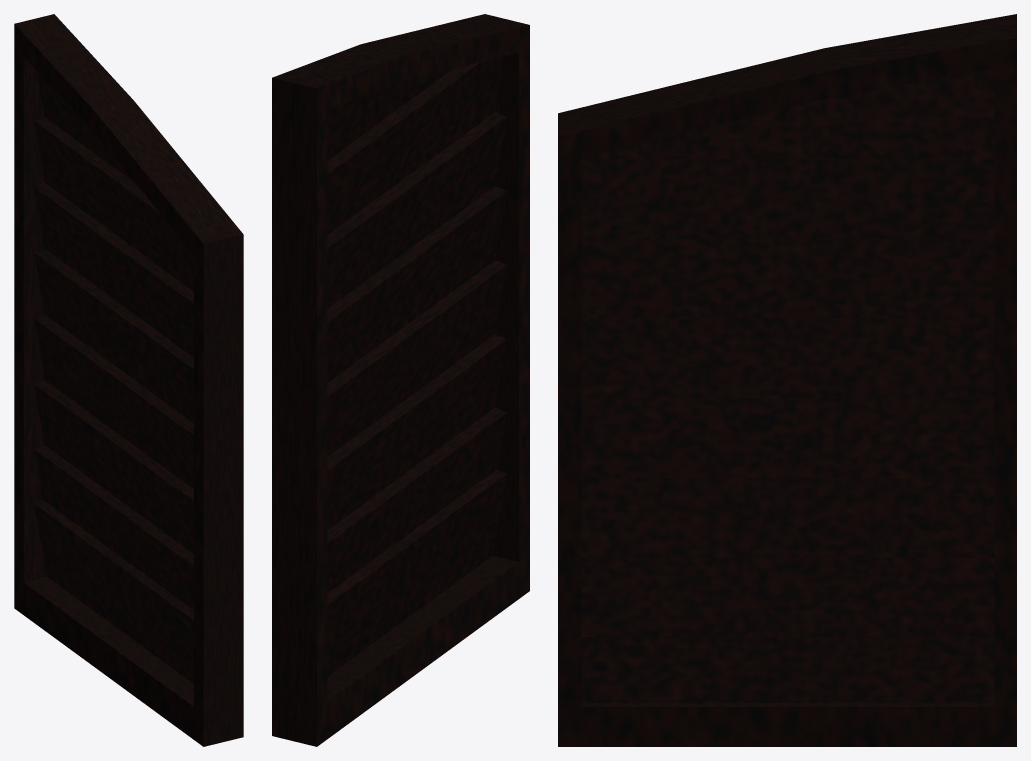
The model's file is door_left.fbx.
The picture shows the model from 3 angles, left to right: view 1: azimuth 30°, elevation 25°; view 2: azimuth 150°, elevation 25°; view 3: azimuth 270°, elevation 25°; orthographic projection. The views are drawn at different scales.
Visible parts, largest first — view 1: door_left_Baked; view 2: door_left_Baked; view 3: door_left_Baked.
Part boxes in pixels (<box>): door_left_Baked: <box>14,14,243,746</box>; door_left_Baked: <box>272,14,529,746</box>; door_left_Baked: <box>558,14,1016,746</box>.
Bounding box in the file's own units: 1.51 × 21.09 × 12.37.
1 material, 1 textured.
